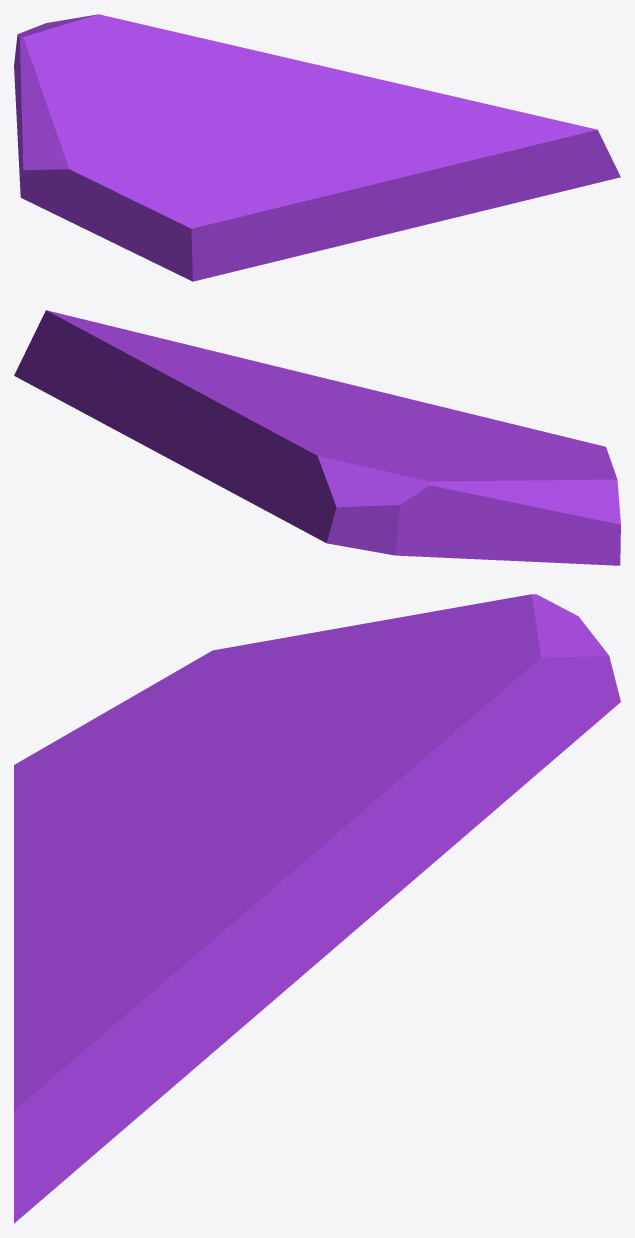
File: Window_160_4_chunks.fbx
3 views of the same model, one above another, from view 1: azimuth 30°, elevation 25°; view 2: azimuth 150°, elevation 25°; view 3: azimuth 270°, elevation 25° (orthographic). The views are drawn at different scales.
Visible parts, largest first — view 1: Window_160_4_6, Window_160_4_14, Window_160_4_0, Window_160_4_1, Window_160_4_10, Window_160_4_11, Window_160_4_12, Window_160_4_15, Window_160_4_9, Window_160_4_8; view 2: Window_160_4_0, Window_160_4_1, Window_160_4_14, Window_160_4_6, Window_160_4_3, Window_160_4_15, Window_160_4_12, Window_160_4_2, Window_160_4_11, Window_160_4_10, Window_160_4_5; view 3: Window_160_4_1, Window_160_4_14, Window_160_4_6, Window_160_4_3, Window_160_4_0, Window_160_4_15, Window_160_4_12, Window_160_4_11, Window_160_4_2, Window_160_4_10, Window_160_4_5.
Boxes of the visible parts, bbox=[...] form: Window_160_4_6: bbox=[102, 84, 297, 280]; Window_160_4_14: bbox=[374, 84, 620, 205]; Window_160_4_0: bbox=[14, 33, 134, 239]; Window_160_4_1: bbox=[19, 14, 318, 100]; Window_160_4_10: bbox=[241, 185, 356, 266]; Window_160_4_11: bbox=[274, 151, 460, 208]; Window_160_4_12: bbox=[260, 108, 424, 169]; Window_160_4_15: bbox=[240, 74, 400, 116]; Window_160_4_9: bbox=[310, 185, 502, 252]; Window_160_4_8: bbox=[191, 185, 274, 281]; Window_160_4_0: bbox=[361, 452, 620, 565]; Window_160_4_1: bbox=[197, 391, 435, 549]; Window_160_4_14: bbox=[14, 310, 280, 401]; Window_160_4_6: bbox=[307, 406, 614, 470]; Window_160_4_3: bbox=[62, 380, 215, 479]; Window_160_4_15: bbox=[146, 367, 327, 417]; Window_160_4_12: bbox=[237, 368, 368, 413]; Window_160_4_2: bbox=[209, 433, 274, 515]; Window_160_4_11: bbox=[279, 367, 450, 416]; Window_160_4_10: bbox=[400, 396, 518, 425]; Window_160_4_5: bbox=[192, 388, 230, 440]; Window_160_4_1: bbox=[297, 601, 620, 858]; Window_160_4_14: bbox=[14, 912, 225, 1223]; Window_160_4_6: bbox=[14, 681, 328, 849]; Window_160_4_3: bbox=[108, 856, 393, 1142]; Window_160_4_0: bbox=[159, 594, 579, 699]; Window_160_4_15: bbox=[164, 790, 308, 958]; Window_160_4_12: bbox=[18, 811, 245, 963]; Window_160_4_11: bbox=[14, 833, 127, 967]; Window_160_4_2: bbox=[373, 788, 519, 897]; Window_160_4_10: bbox=[14, 818, 64, 892]; Window_160_4_5: bbox=[283, 835, 379, 867].
Size of the model in its own units: 1025 by 269 by 594.
